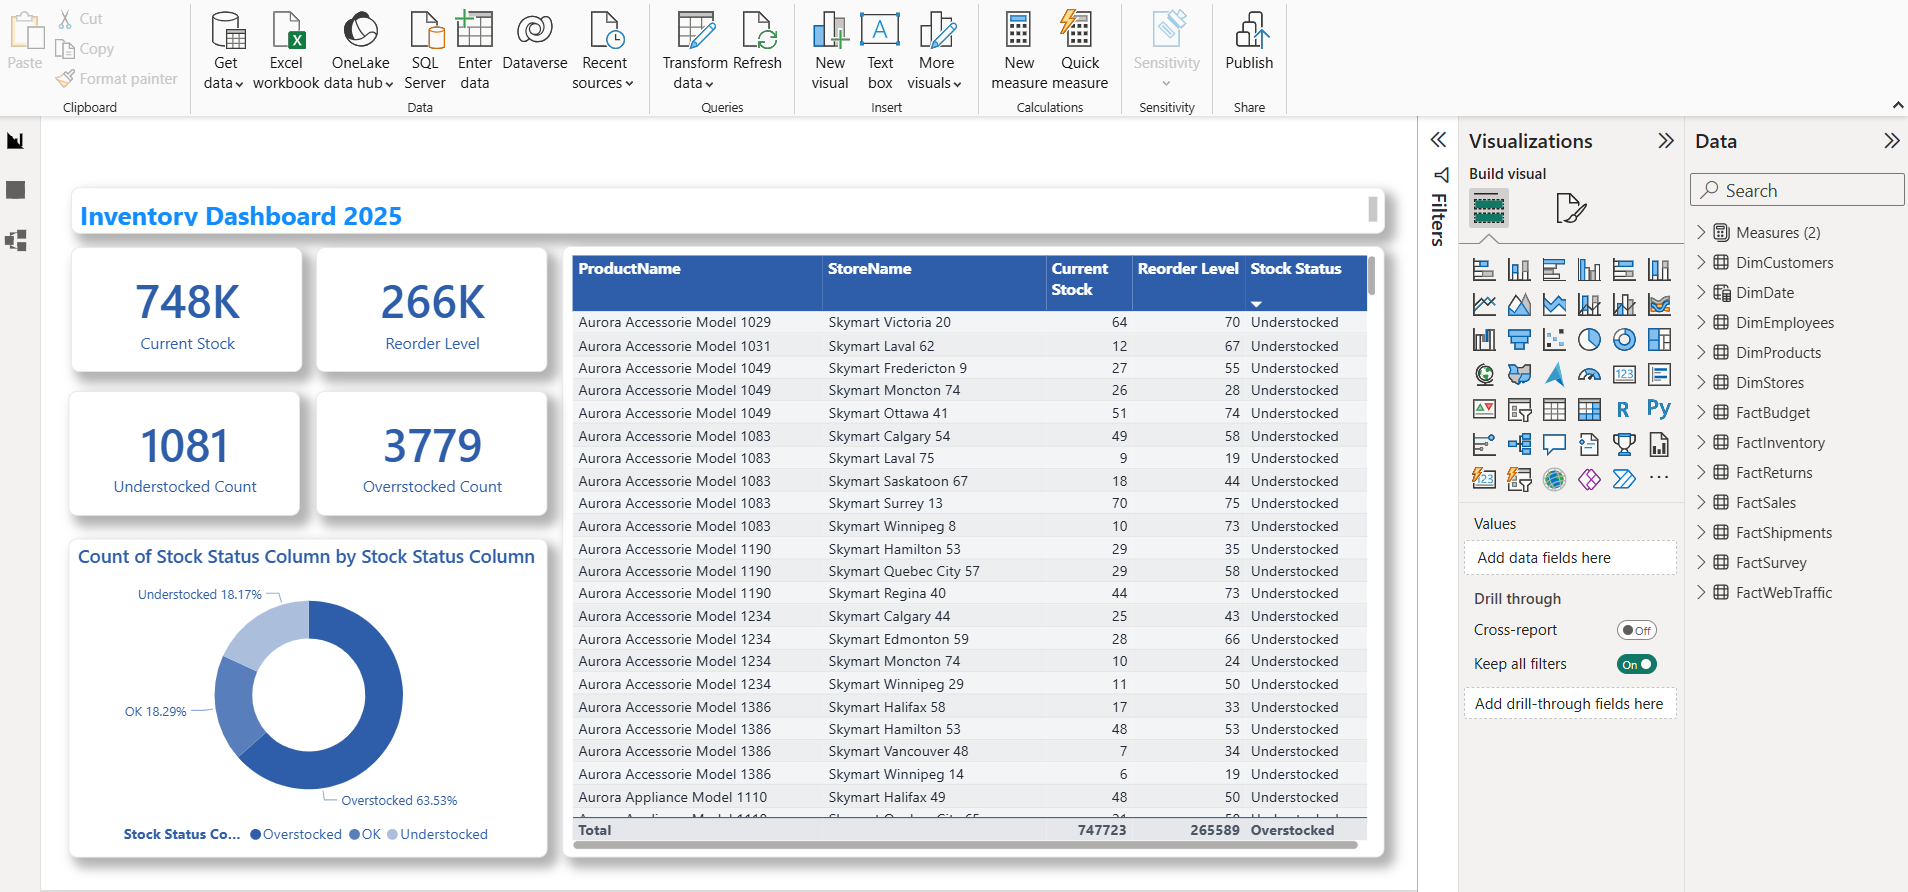

Layout of this report page (visuals, bound fields, positions):
{"tool":"powerbi","page":{"name":"Inventory Dashboard","canvas":[1280,720],"ordinal":4},"visuals":[{"type":"textbox","box":[27.9,66.3,1222.1,43],"z":0},{"type":"card","fields":{"Values":["Measures (2).Current Stock"]},"box":[27.9,122.1,215.1,116.3],"z":1000},{"type":"card","fields":{"Values":["Measures (2).Reorder Level"]},"box":[255.8,122.1,215.1,116.3],"z":2000},{"type":"donutChart","fields":{"Category":["FactInventory.Stock Status Column"],"Y":["CountNonNull(FactInventory.Stock Status Column)"]},"box":[25.6,393,445.4,296.5],"z":3000},{"type":"tableEx","fields":{"Values":["DimProducts.ProductName","DimStores.StoreName","Measures (2).Current Stock","Measures (2).Reorder Level","Measures (2).Stock Status"]},"box":[484.9,120.9,765.1,568.6],"z":4000},{"type":"card","fields":{"Values":["Measures (2).Understocked Count"]},"box":[25.6,255.8,215.1,116.3],"z":5000},{"type":"card","fields":{"Values":["Measures (2).Overrstocked Count"]},"box":[255.8,255.8,215.1,116.3],"z":6000}]}

Visuals, with their boxes on the page's 1280x720 design canvas (x1, y1, x2, y2). These are canvas units, not pixel positions in the 1908x892 screenshot, which may show the page scaled, cropped or inside an application window:
textbox: [left=28, top=66, right=1250, bottom=109]
card - Measures (2).Current Stock: [left=28, top=122, right=243, bottom=238]
card - Measures (2).Reorder Level: [left=256, top=122, right=471, bottom=238]
donutChart - FactInventory.Stock Status Column x CountNonNull(FactInventory.Stock Status Column): [left=26, top=393, right=471, bottom=690]
tableEx - DimProducts.ProductName x DimStores.StoreName: [left=485, top=121, right=1250, bottom=690]
card - Measures (2).Understocked Count: [left=26, top=256, right=241, bottom=372]
card - Measures (2).Overrstocked Count: [left=256, top=256, right=471, bottom=372]
